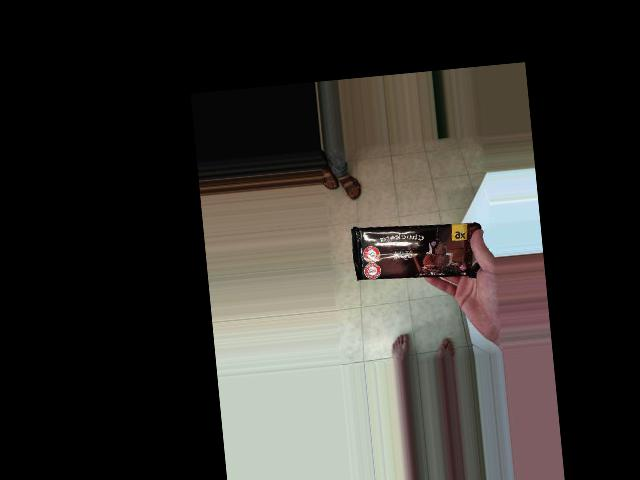chocolate: (346, 211, 486, 296)
